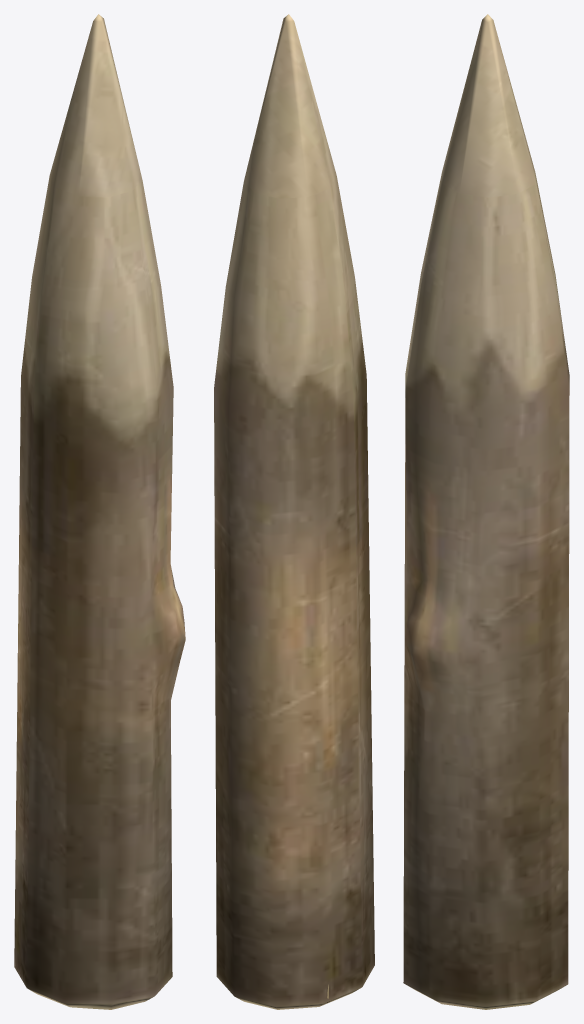
The picture shows the model from 3 angles, left to right: view 1: azimuth 30°, elevation 25°; view 2: azimuth 150°, elevation 25°; view 3: azimuth 270°, elevation 25°; orthographic projection.
Visible parts, largest first — view 1: SM_Garou_Set_SM_Spike_01_01_LOD0; view 2: SM_Garou_Set_SM_Spike_01_01_LOD0; view 3: SM_Garou_Set_SM_Spike_01_01_LOD0.
Boxes of the visible parts, x1,y1,x2,y2 form: SM_Garou_Set_SM_Spike_01_01_LOD0: [14, 14, 185, 1009]; SM_Garou_Set_SM_Spike_01_01_LOD0: [214, 14, 374, 1009]; SM_Garou_Set_SM_Spike_01_01_LOD0: [403, 14, 569, 1009].
Size of the model in its own units: 0.1999 by 1.37 by 0.2121.
Materials: 1 (1 with a texture image).
